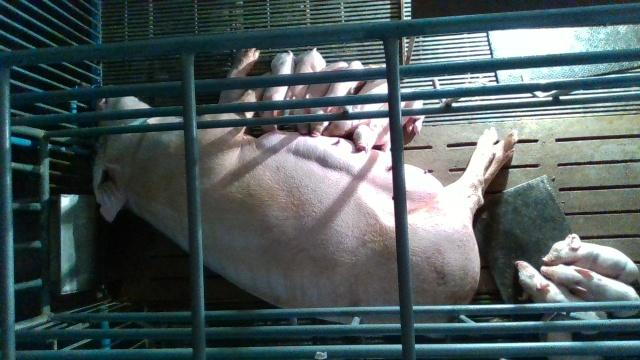piglet: (515, 261, 609, 334), (541, 263, 640, 318), (544, 233, 640, 286), (353, 90, 425, 152), (311, 61, 367, 136), (295, 61, 348, 134), (323, 82, 389, 137), (259, 51, 297, 132), (281, 48, 326, 115)
sow-sleep-lactate: (92, 46, 516, 324)
